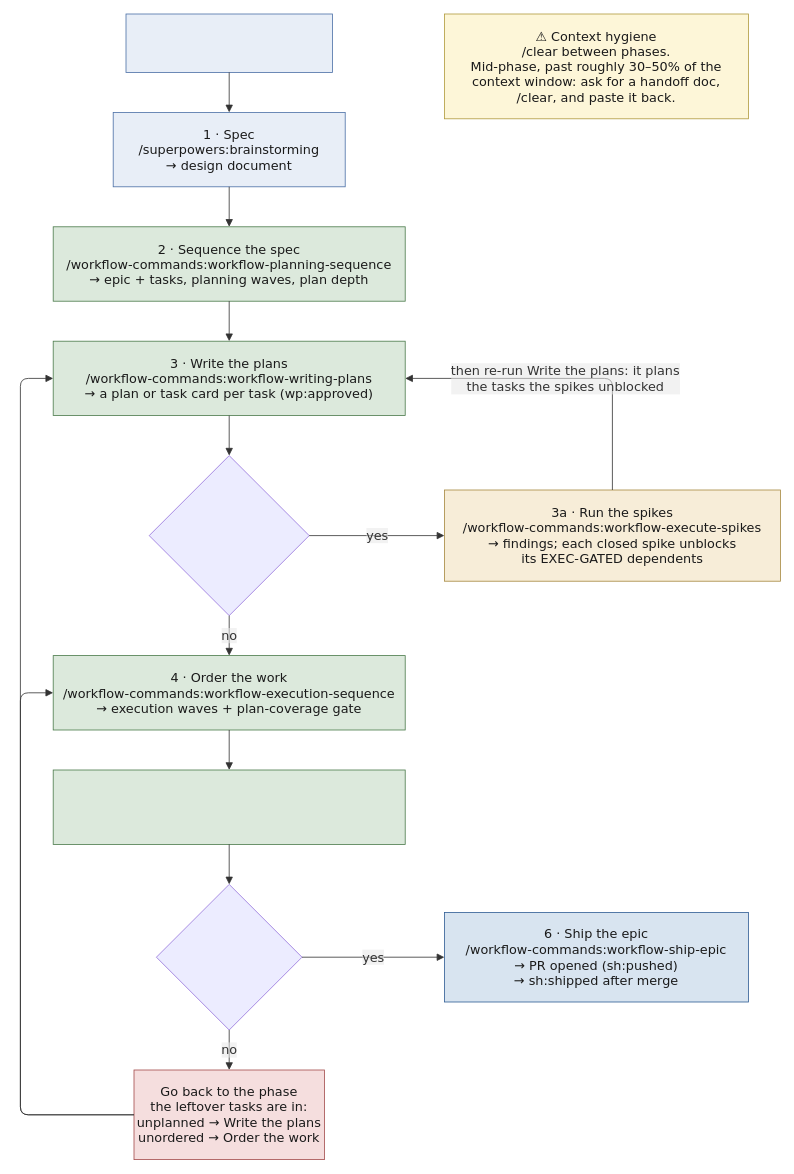
The diagram is 794 pixels wide and 1174 high, and some of its shapes have lost their labels. The centre of each missing label's shape, as x and y in pixels:
"0 · Set up Create a worktree + branch" belongs at [228,42].
"5 · Build it /workflow-commands:workflow-execute-plans → ex:done per task" belongs at [228,806].
"Any SPIKE-FIRST tasks left to run?" belongs at [228,535].
"Every task in the epic done?" belongs at [229,957].
